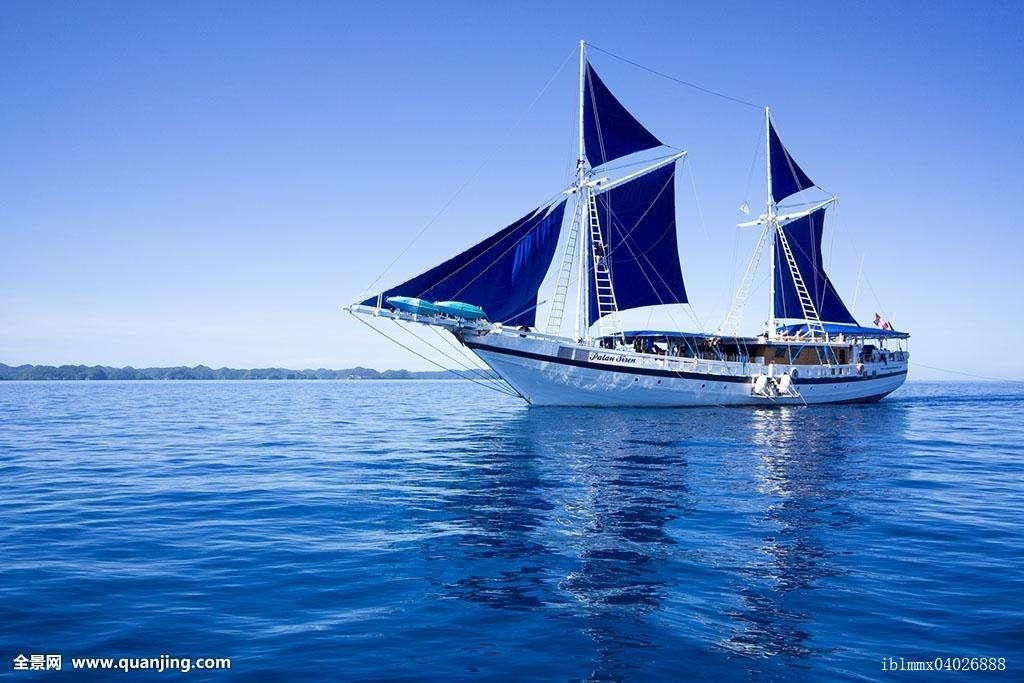fanchuan: (345, 37, 916, 406)
